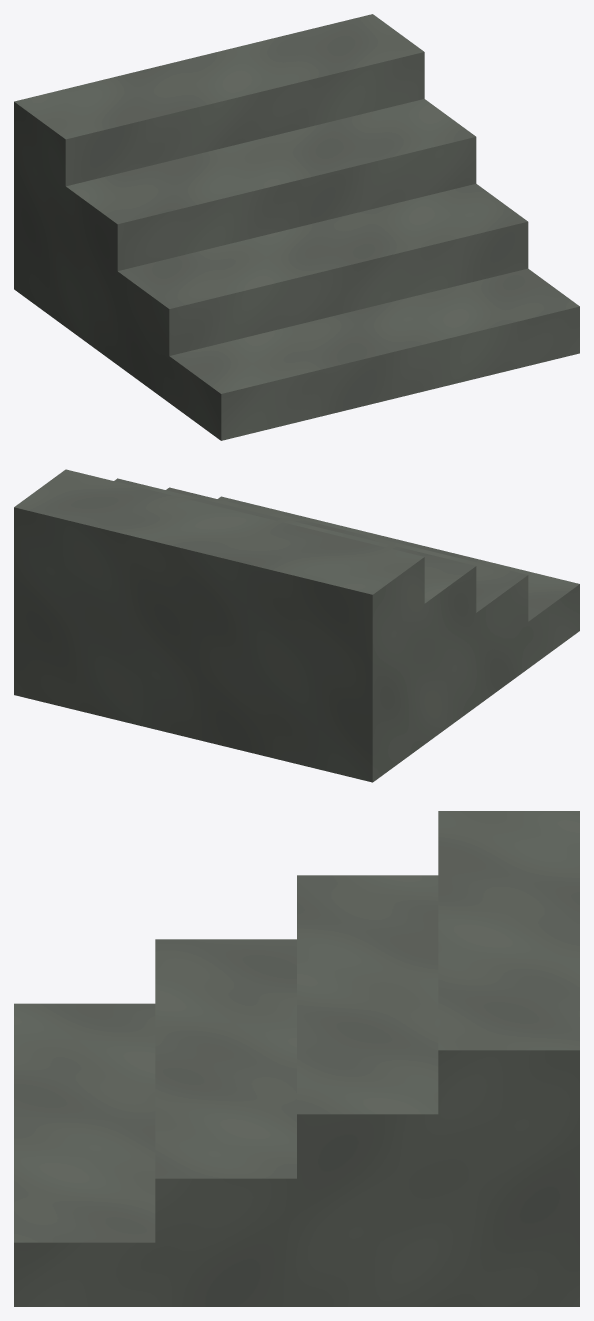
The model's file is STAIR_A.glb.
3 renders of one model, top to bottom at view 1: azimuth 30°, elevation 25°; view 2: azimuth 150°, elevation 25°; view 3: azimuth 270°, elevation 25°, orthographic. The views are drawn at different scales.
Visible parts, largest first — view 1: STAIR_A; view 2: STAIR_A; view 3: STAIR_A.
Boxes of the visible parts, x1,y1,x2,y2 form: STAIR_A: [14, 14, 579, 440]; STAIR_A: [14, 469, 579, 782]; STAIR_A: [14, 811, 579, 1306].
Size of the model in its own units: 2 by 1 by 2.
Materials: 1 (1 with a texture image).
